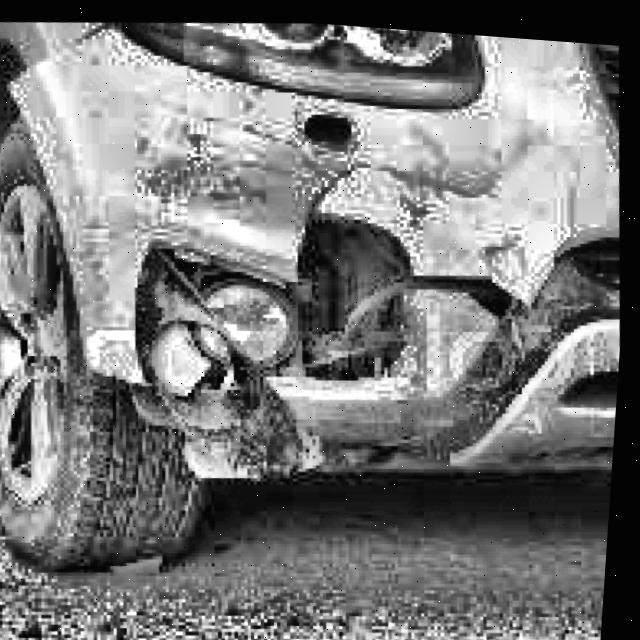head_lamp: (123, 187, 432, 476), (116, 9, 481, 117)
